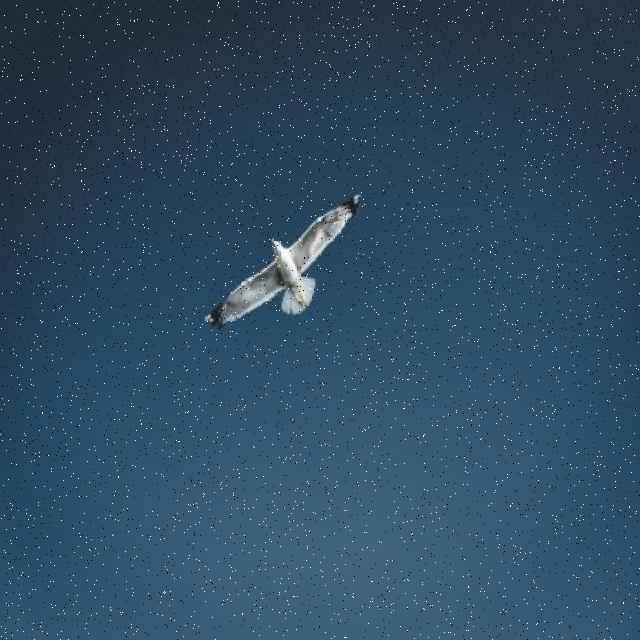bird: (204, 194, 360, 334)
